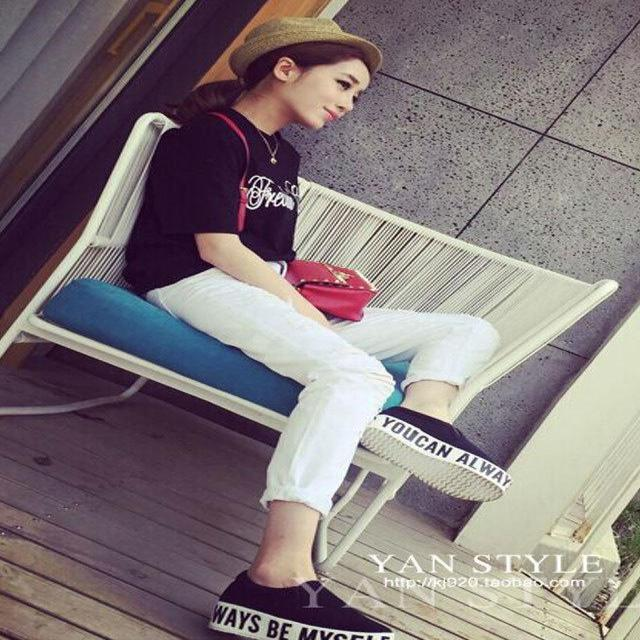trousers: (190, 228, 564, 525)
